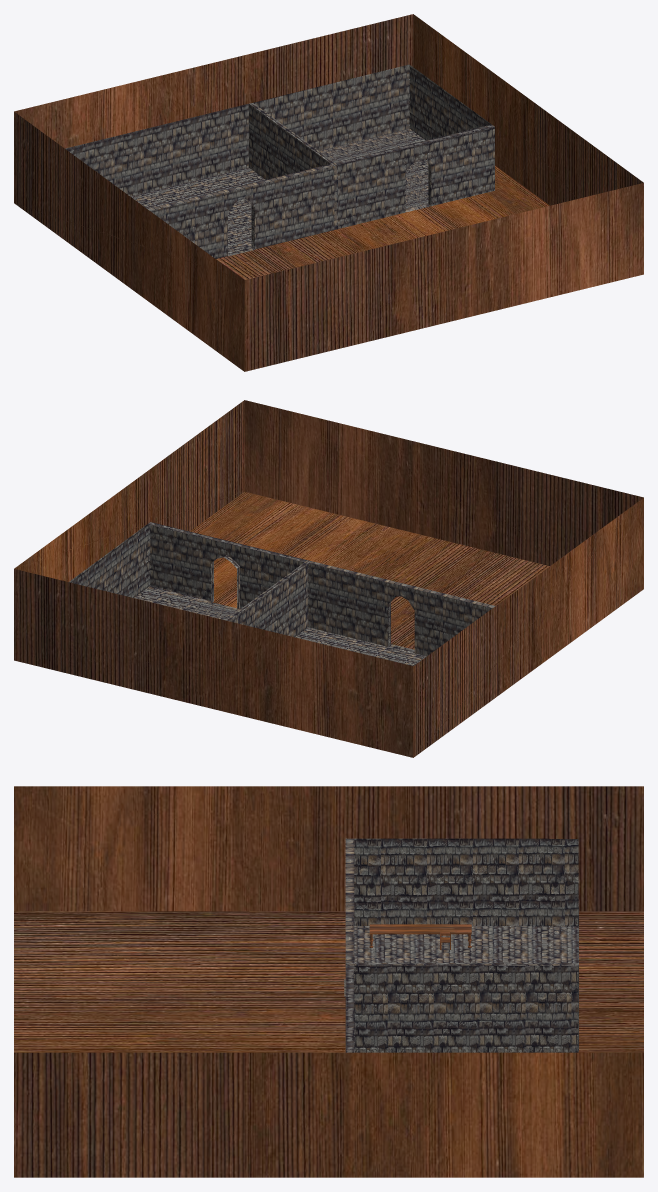
File: Castle.glb
3 renders of one model, top to bottom at view 1: azimuth 30°, elevation 25°; view 2: azimuth 150°, elevation 25°; view 3: azimuth 270°, elevation 25°, orthographic. The views are drawn at different scales.
Visible parts, largest first — view 1: Plane.001, Plane; view 2: Plane.001, Plane; view 3: Plane.001, Plane, Table.
Boxes of the visible parts, <box> form: Plane.001: <box>14,14,643,371</box>; Plane: <box>65,64,494,258</box>; Plane.001: <box>14,400,643,757</box>; Plane: <box>69,522,495,666</box>; Plane.001: <box>14,786,643,1177</box>; Plane: <box>344,838,578,1052</box>; Table: <box>369,924,471,947</box>.
Size of the model in its own units: 42.66 by 9.36 by 42.66.
Materials: 4 (4 with a texture image).
